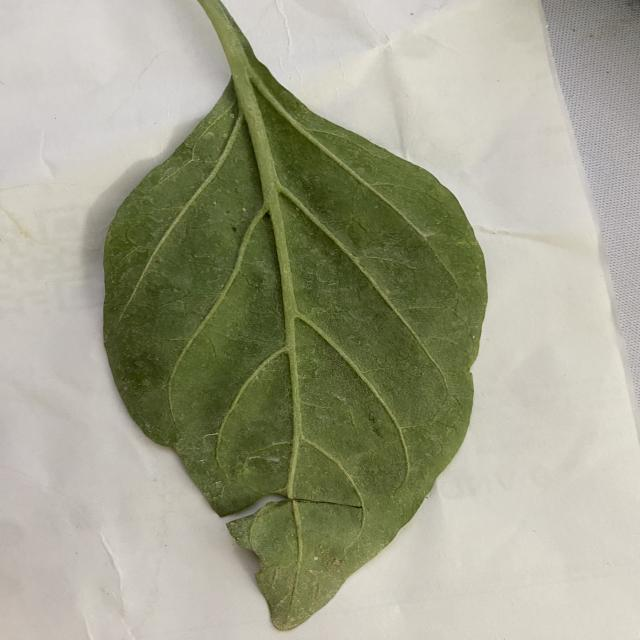Leaf: (98, 69, 490, 634)
